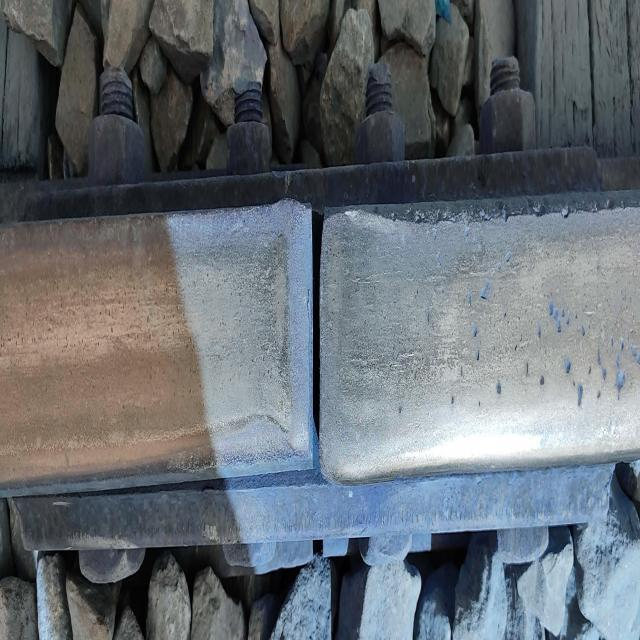Good Joint: (23, 101, 590, 614)
